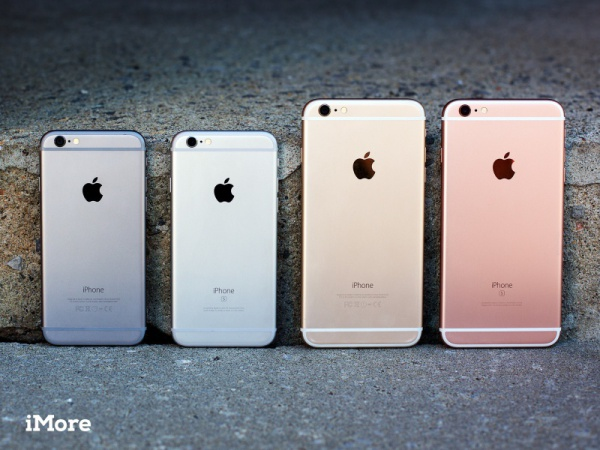apple: (485, 144, 521, 206), (348, 143, 393, 191), (201, 171, 243, 211), (79, 172, 111, 216)
